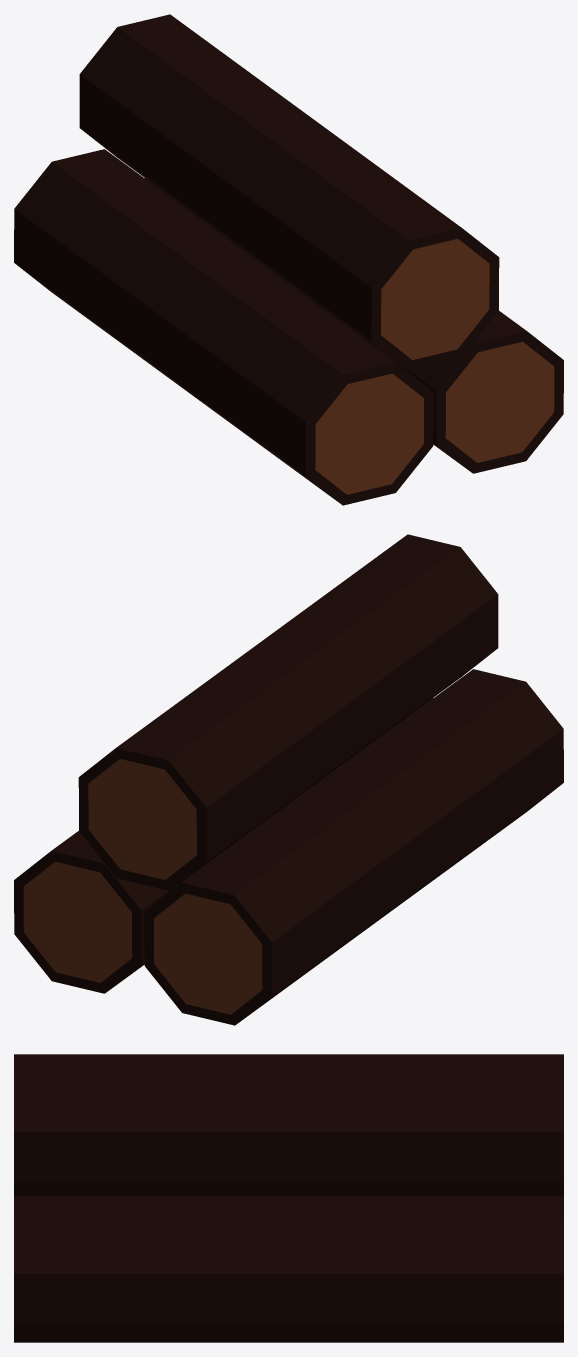
Rendered from LogPile.FBX.
3 views of the same model, one above another, from view 1: azimuth 30°, elevation 25°; view 2: azimuth 150°, elevation 25°; view 3: azimuth 270°, elevation 25° (orthographic). The views are drawn at different scales.
Parts seen in each view (by area): view 1: Log Pile; view 2: Log Pile; view 3: Log Pile.
Boxes of the visible parts, x1,y1,x2,y2 form: Log Pile: [14, 14, 563, 505]; Log Pile: [14, 534, 563, 1025]; Log Pile: [14, 1054, 563, 1342].
Bounding box in the file's own units: 26.85 × 24.77 × 52.59.
